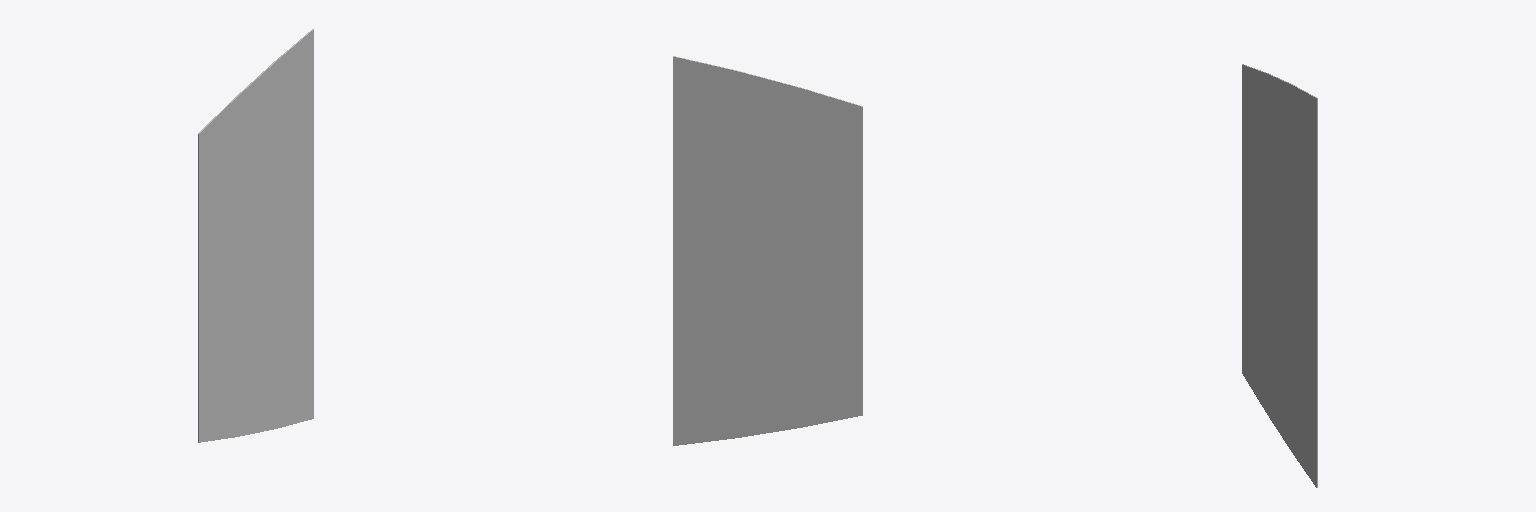
Rendered from sedan_windshield.obj.
The picture shows the model from 3 angles: view 1: azimuth 30°, elevation 25°; view 2: azimuth 150°, elevation 25°; view 3: azimuth 270°, elevation 25°; orthographic projection.
Parts seen in each view (by area): view 1: Extrude001; view 2: Extrude001; view 3: Extrude001.
Boxes of the visible parts, <box> form: Extrude001: <box>198,29,313,442</box>; Extrude001: <box>673,56,862,445</box>; Extrude001: <box>1242,64,1317,487</box>.
Bounding box in the file's own units: 5.73 × 13.9 × 2.46.